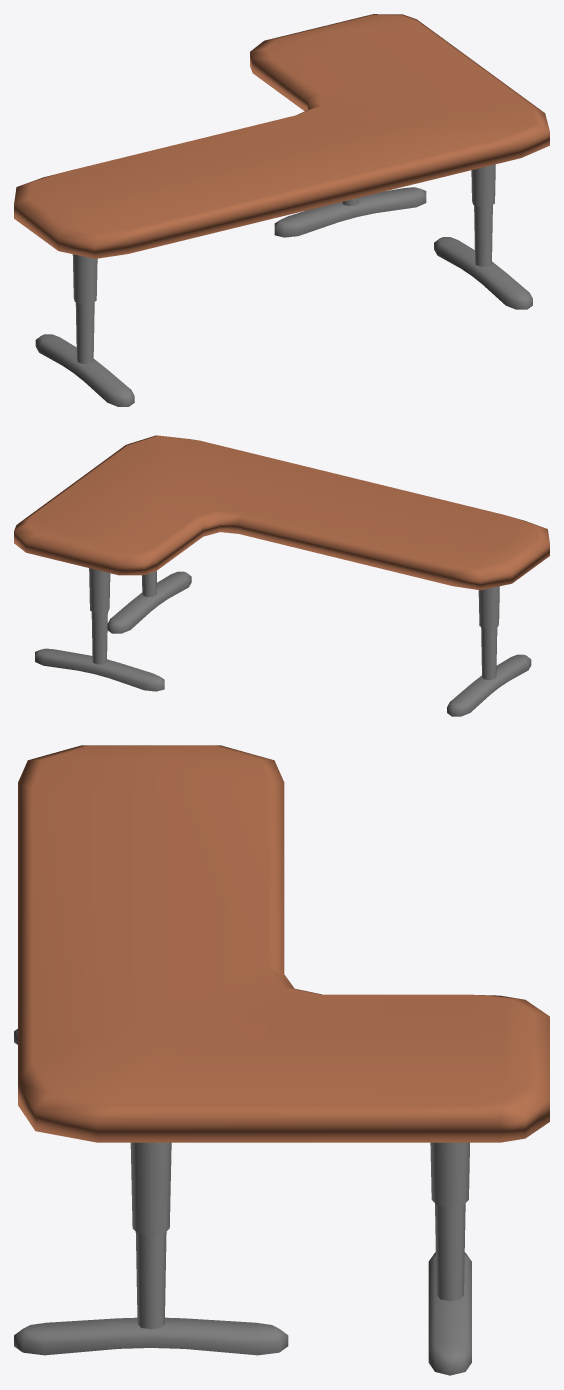
The model's file is mesh_furniture_table_03.fbx.
3 views of the same model, one above another, from view 1: azimuth 30°, elevation 25°; view 2: azimuth 150°, elevation 25°; view 3: azimuth 270°, elevation 25° (orthographic). The views are drawn at different scales.
Visible parts, largest first — view 1: mesh_furniture_table_03, mesh_furniture_table_02, mesh_furniture_table_01; view 2: mesh_furniture_table_03, mesh_furniture_table_02, mesh_furniture_table_01; view 3: mesh_furniture_table_03, mesh_furniture_table_02.
Boxes of the visible parts, <box> form: mesh_furniture_table_03: <box>14,14,549,258</box>; mesh_furniture_table_02: <box>274,164,532,309</box>; mesh_furniture_table_01: <box>35,254,134,406</box>; mesh_furniture_table_03: <box>14,435,549,590</box>; mesh_furniture_table_02: <box>35,568,191,691</box>; mesh_furniture_table_01: <box>447,586,531,716</box>; mesh_furniture_table_03: <box>18,745,549,1142</box>; mesh_furniture_table_02: <box>14,1142,471,1375</box>.
Size of the model in its own units: 28.51 by 9.5 by 17.2.
